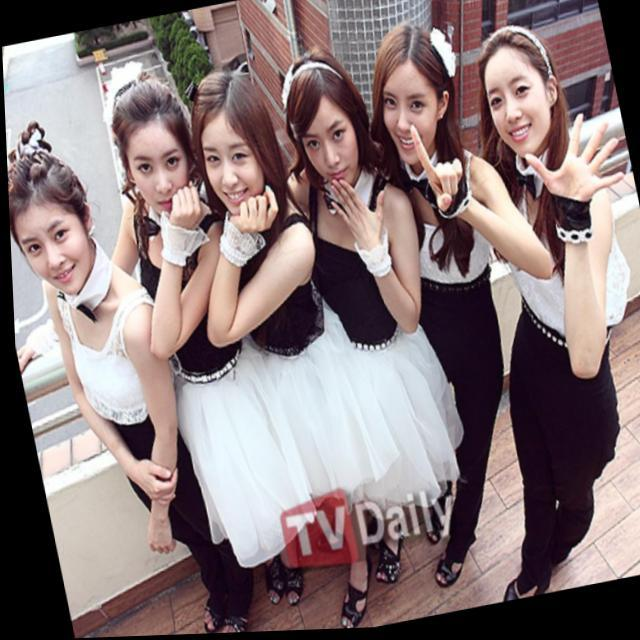Nonhelmet: (0, 125, 108, 295), (367, 19, 468, 186), (472, 17, 574, 176), (190, 56, 284, 228), (274, 41, 372, 198), (105, 73, 204, 224)
